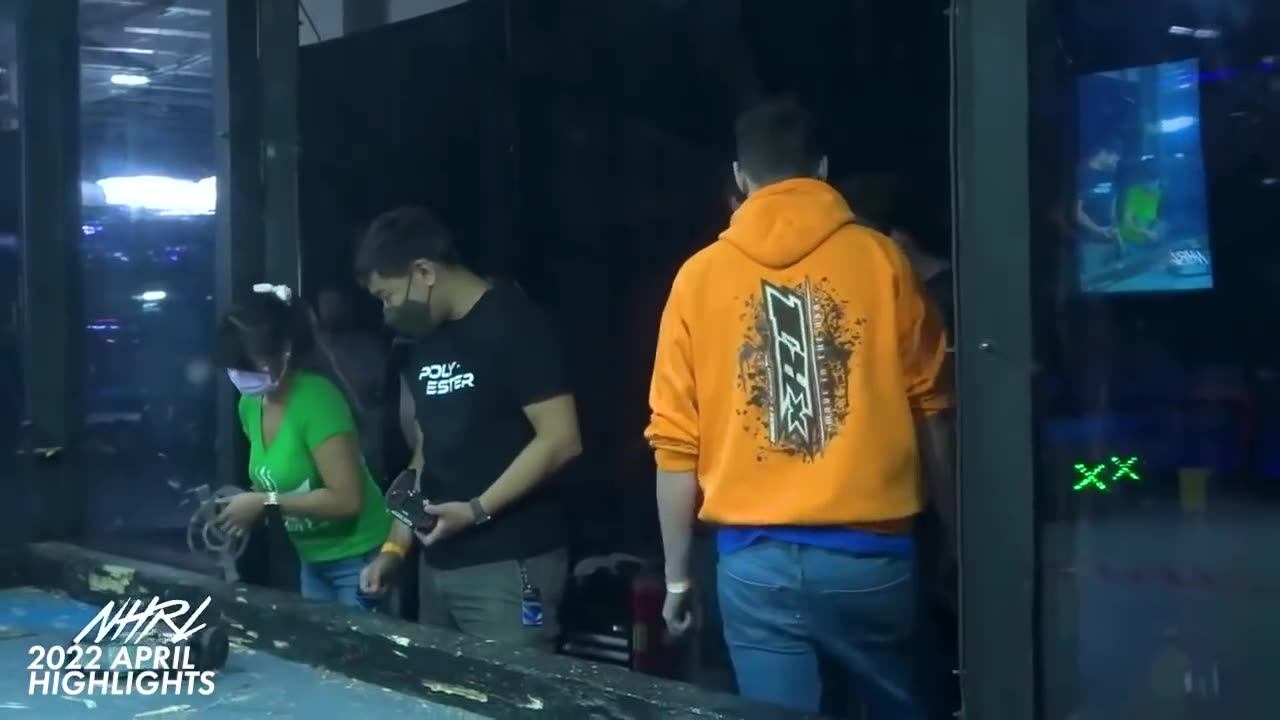combatbot: (63, 593, 228, 679)
